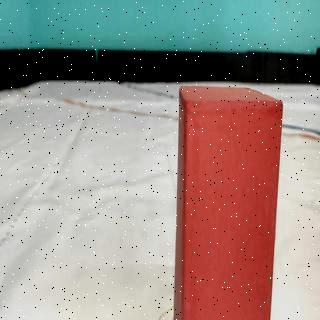redbox: (175, 84, 284, 320)
